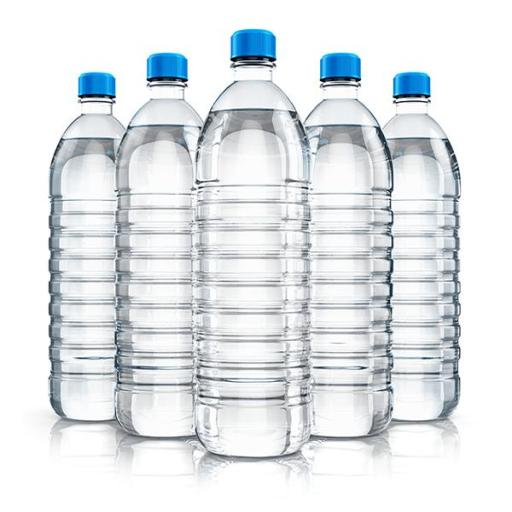plastic bottle: (191, 64, 310, 459), (300, 81, 394, 442), (114, 84, 207, 440), (378, 98, 464, 424), (49, 98, 129, 422)
plastic bottle cap: (232, 29, 277, 63), (319, 51, 362, 85), (145, 53, 188, 84), (78, 71, 118, 100), (393, 71, 431, 99)
